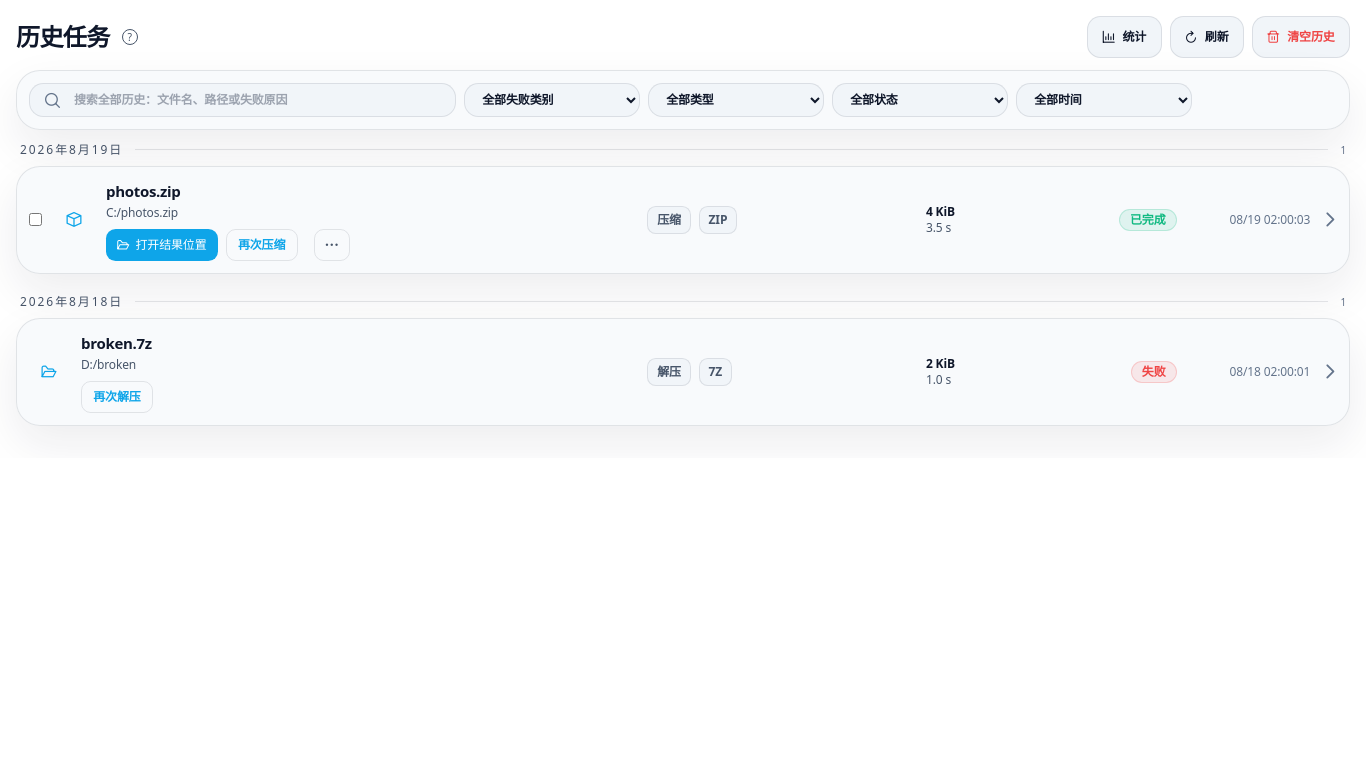
Scenario: HistoryView › renders persisted metrics, real records, filters, and details
Click the button with test id "history-open-statistics" at (1124, 37), box top-left (1087, 16), bottom-right (1162, 58)
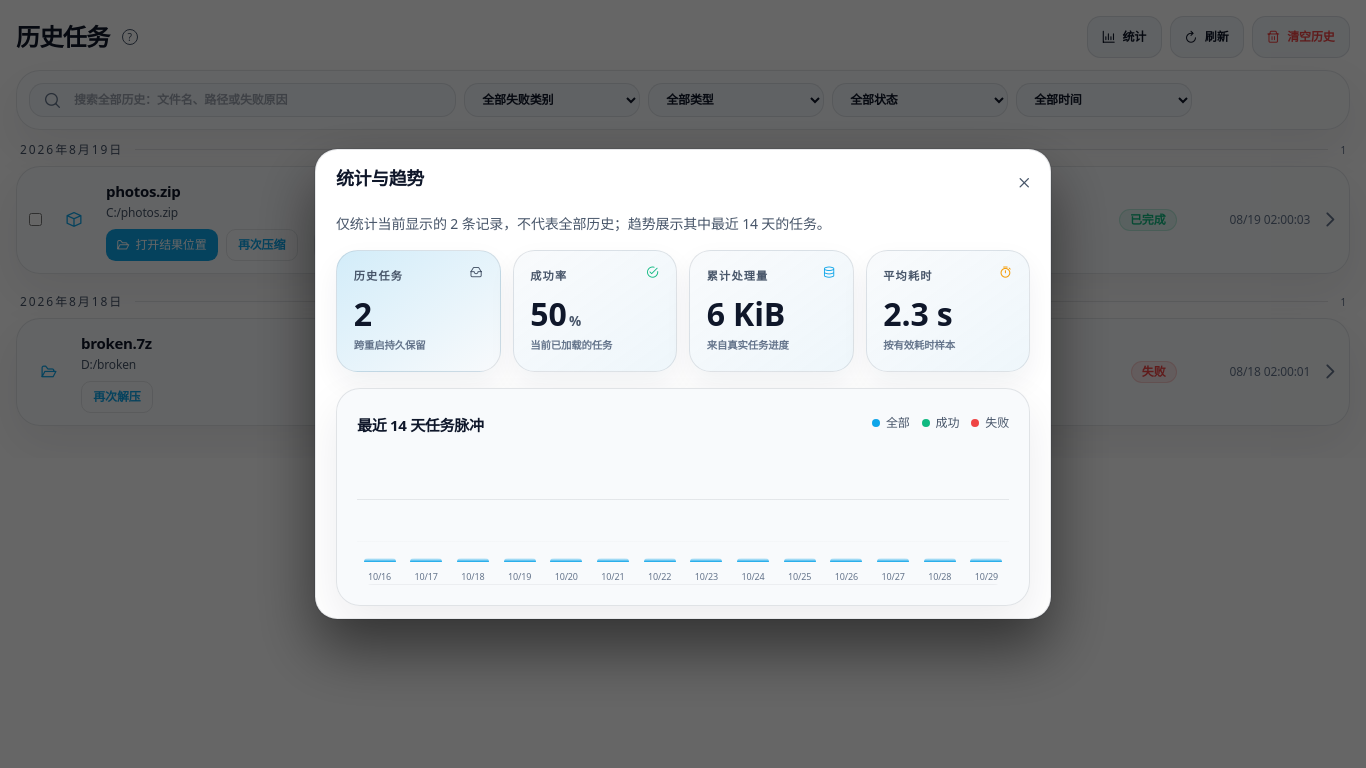
Check: the element with test id "history-kpis" shows "50%", box top-left (336, 250), bottom-right (1030, 372)
Click the button named "关闭统计" at (1024, 182), box top-left (1010, 162), bottom-right (1038, 202)
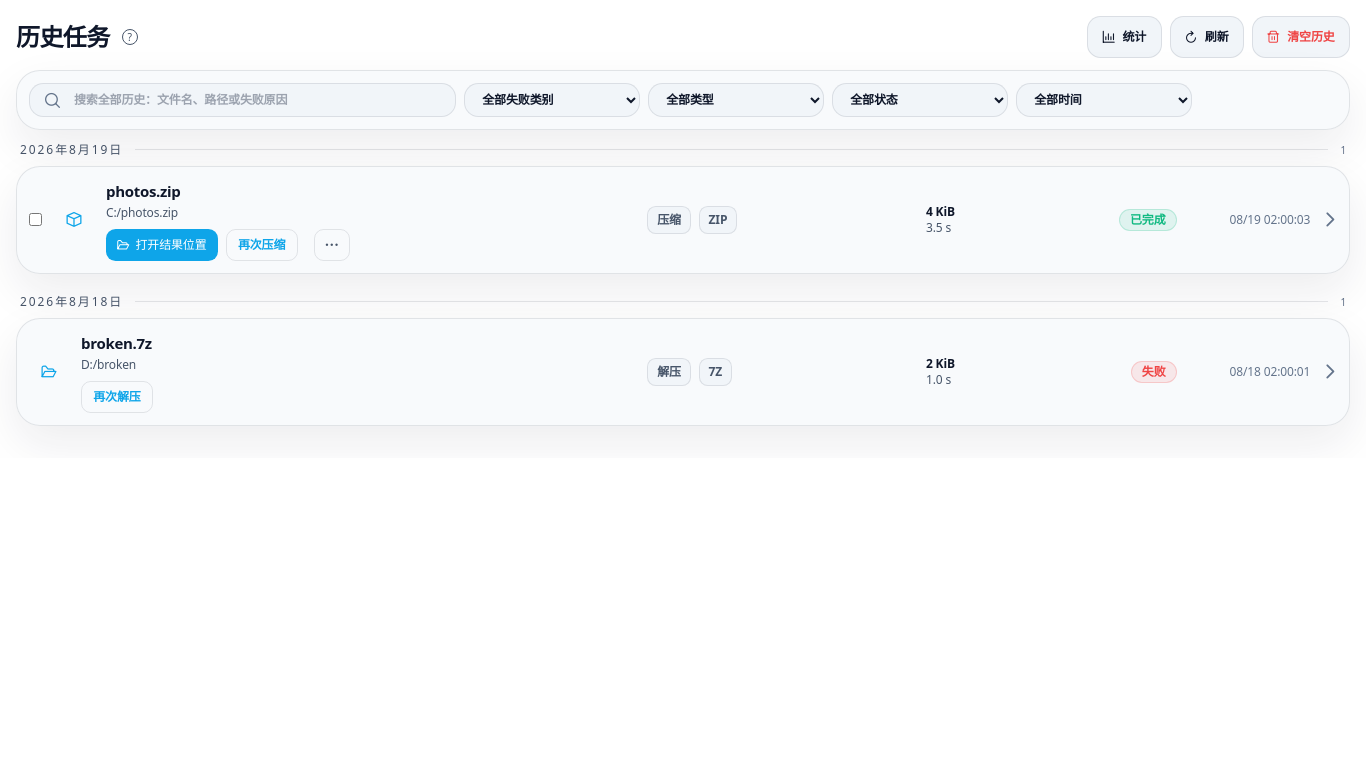
Check: the element with test id "history-list" shows "photos.zip", box top-left (106, 181), bottom-right (181, 201)
Check: the element with test id "history-list" shows "broken.7z", box top-left (81, 333), bottom-right (152, 353)
Select "解压" in the dropdown with test id "history-type-filter" at (736, 100), box top-left (648, 83), bottom-right (824, 117)
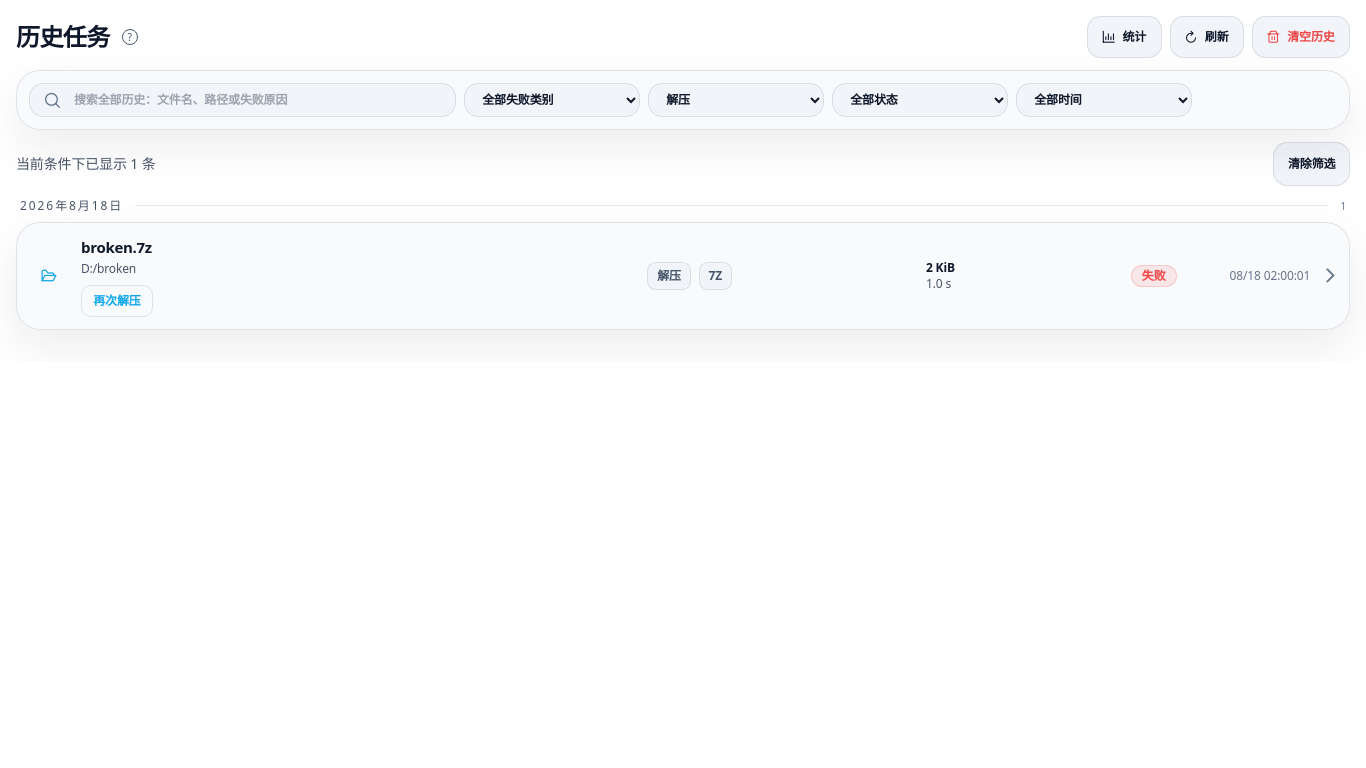
Check: the element with test id "history-list" shows "broken.7z", box top-left (81, 237), bottom-right (152, 257)
Check: the heading with test id "history-list" no longer shows "photos.zip"
Click the element showing "broken.7z D:/broken 再次解压 解压 7z 2 KiB 1.0 s 失败 08/18 02:00:01" at (683, 276), box top-left (17, 223), bottom-right (1349, 329)
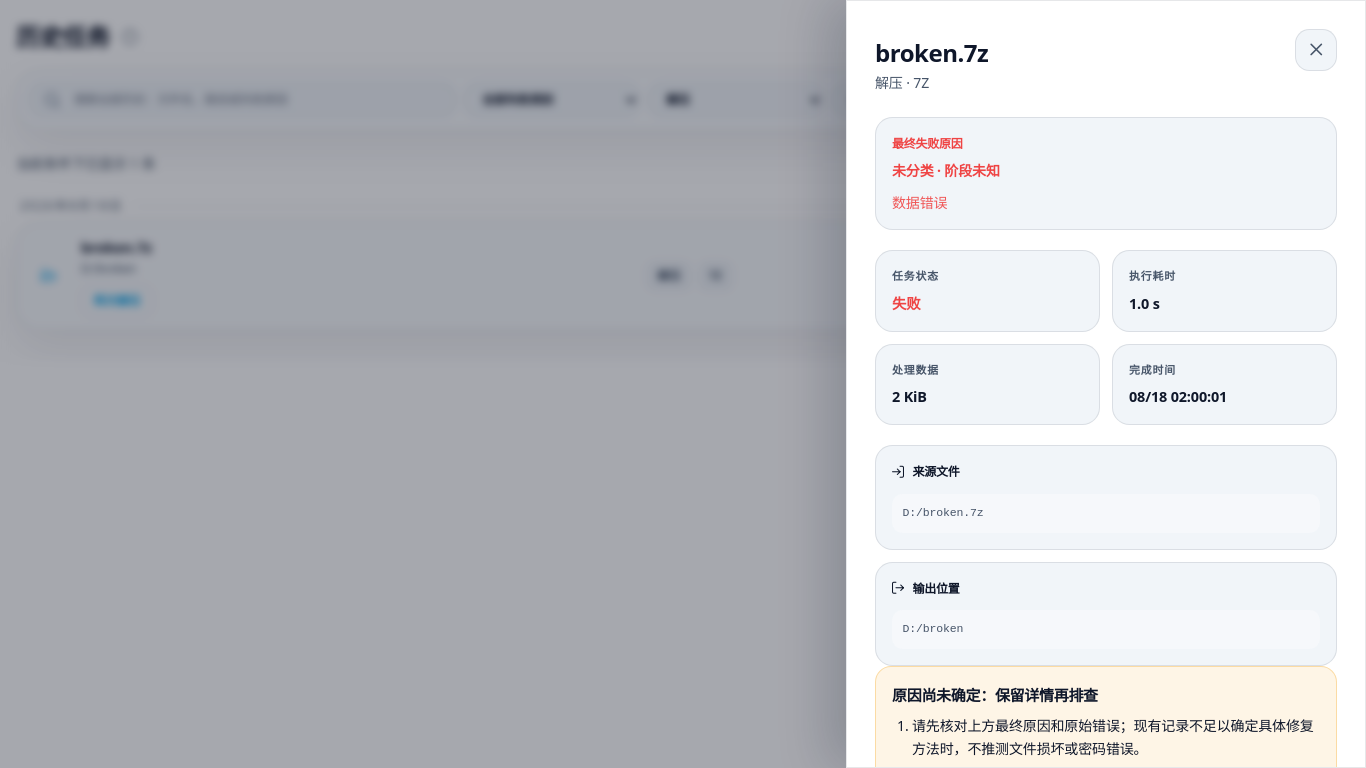
Check: the element with test id "history-detail" shows "数据错误", box top-left (892, 193), bottom-right (947, 212)
Check: the element with test id "history-recovery-guidance" shows "原因尚未确定", box top-left (892, 685), bottom-right (1098, 705)
Check: the element with test id "history-detail" shows "D:/broken.7z", box top-left (902, 506), bottom-right (984, 519)
